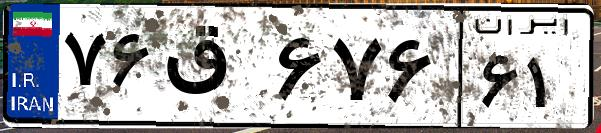1: (525, 38, 570, 115)
6: (270, 28, 330, 110), (385, 28, 445, 110), (475, 38, 525, 113), (110, 28, 158, 98)
7: (330, 28, 385, 110), (57, 26, 110, 100)
ق: (158, 20, 270, 120)
